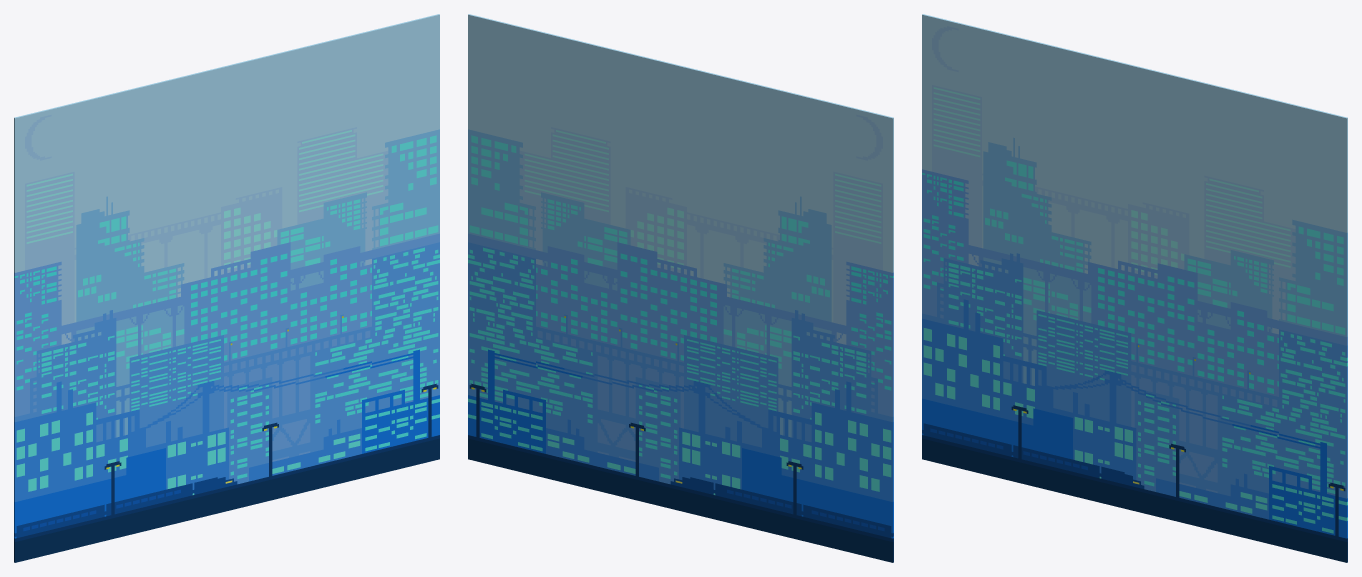
Rendered from Picture.obj.
The picture shows the model from 3 angles, left to right: view 1: azimuth 30°, elevation 25°; view 2: azimuth 150°, elevation 25°; view 3: azimuth 330°, elevation 25°; orthographic projection.
Parts seen in each view (by area): view 1: skd; view 2: skd; view 3: skd.
Part boxes in pixels (bbox=[...]): skd: bbox=[14, 14, 439, 562]; skd: bbox=[468, 14, 893, 562]; skd: bbox=[922, 14, 1347, 562].
Size of the model in its own units: 25.6 by 25.6 by 0.1.
1 material, 1 textured.
